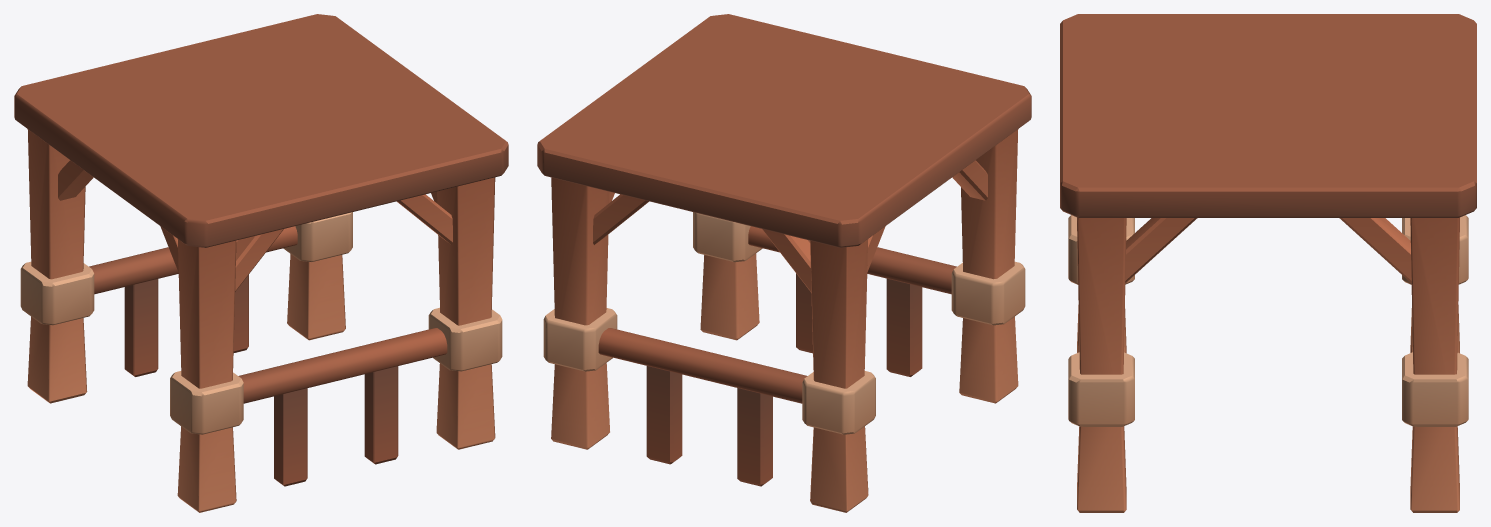
Rendered from kenney-pirate__structure-fence.glb.
The picture shows the model from 3 angles, left to right: view 1: azimuth 30°, elevation 25°; view 2: azimuth 150°, elevation 25°; view 3: azimuth 270°, elevation 25°; orthographic projection. The views are drawn at different scales.
Visible parts, largest first — view 1: structure-fence; view 2: structure-fence; view 3: structure-fence.
Part boxes in pixels (box(x1,y1,x2,y2)): structure-fence: box(14, 14, 508, 512); structure-fence: box(537, 14, 1031, 512); structure-fence: box(1060, 14, 1476, 512).
Size of the model in its own units: 2.5 by 2.2 by 2.5.
1 material, 1 textured.
